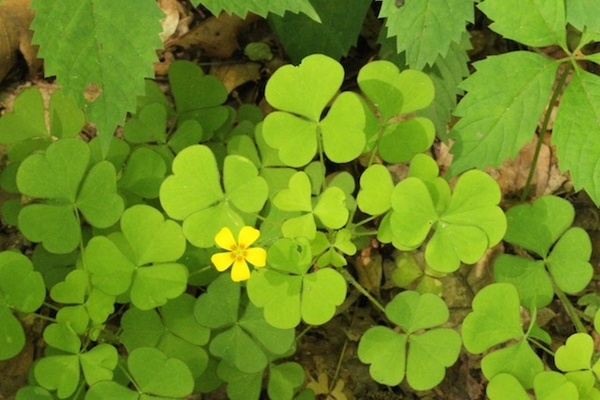oxalis: (25, 133, 600, 392)
